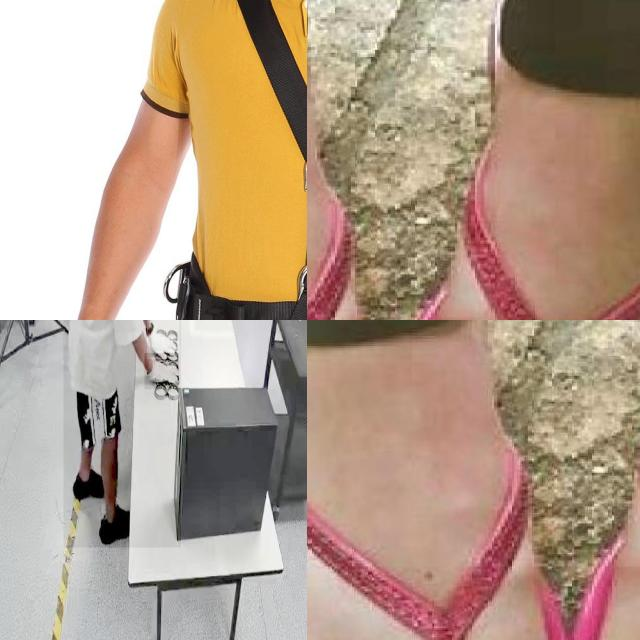Barefoots: (307, 320, 580, 640), (418, 0, 640, 320)
Harness: (197, 0, 307, 320)
hand_glove: (144, 353, 180, 390), (146, 320, 179, 359)
person: (63, 320, 181, 548)
shoes: (98, 501, 136, 547), (72, 467, 108, 503)
